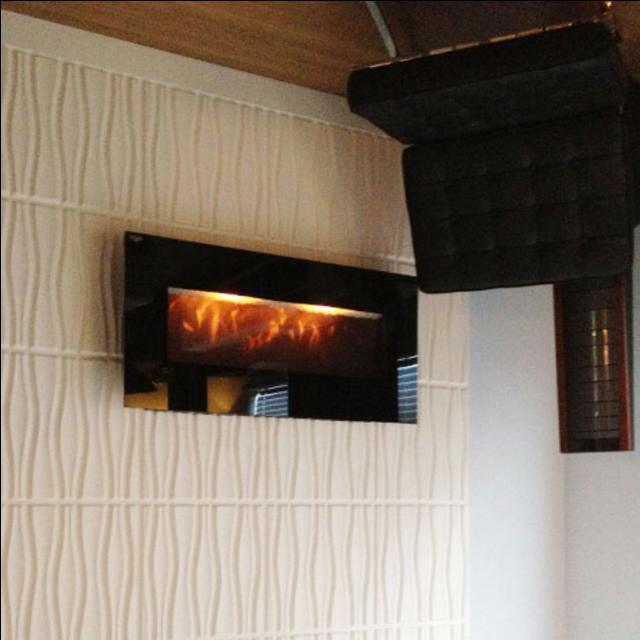Fire: (164, 284, 356, 374)
